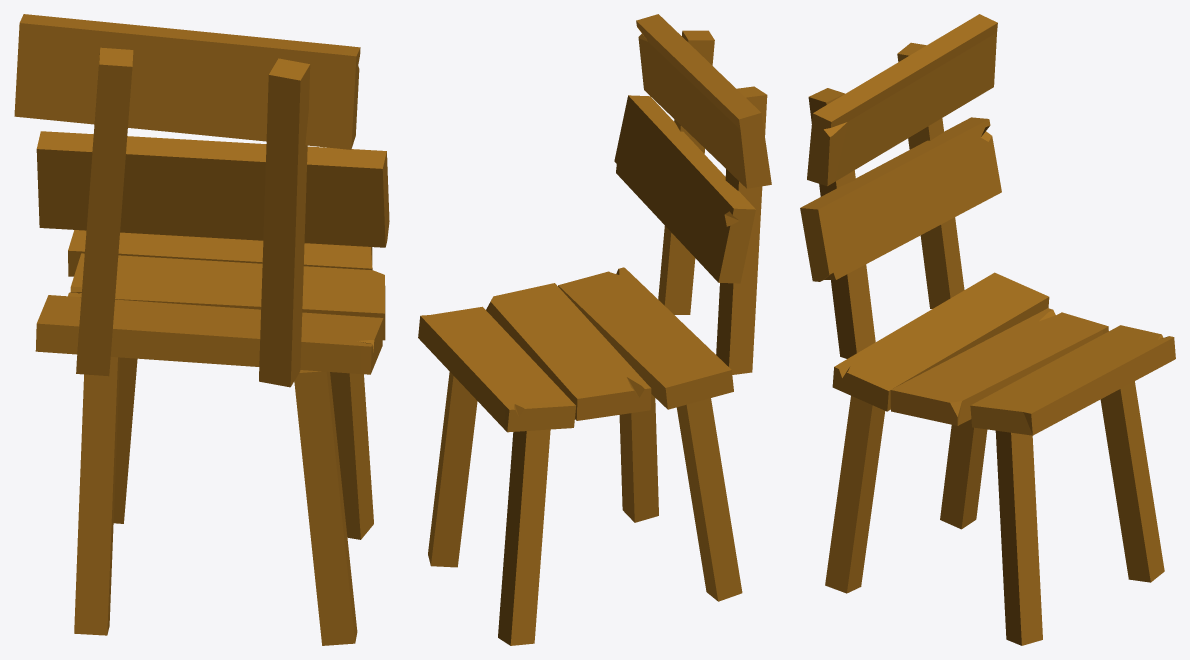
The model's file is cadeira_2.fbx.
3 renders of one model, left to right at view 1: azimuth 30°, elevation 25°; view 2: azimuth 150°, elevation 25°; view 3: azimuth 270°, elevation 25°, orthographic. The views are drawn at different scales.
Visible parts, largest first — view 1: cadeira_2; view 2: cadeira_2; view 3: cadeira_2.
Part boxes in pixels (bbox=[...]): cadeira_2: bbox=[14, 14, 389, 645]; cadeira_2: bbox=[418, 14, 771, 645]; cadeira_2: bbox=[800, 14, 1175, 645].
Bounding box in the file's own units: 76.59 × 115 × 79.81.
